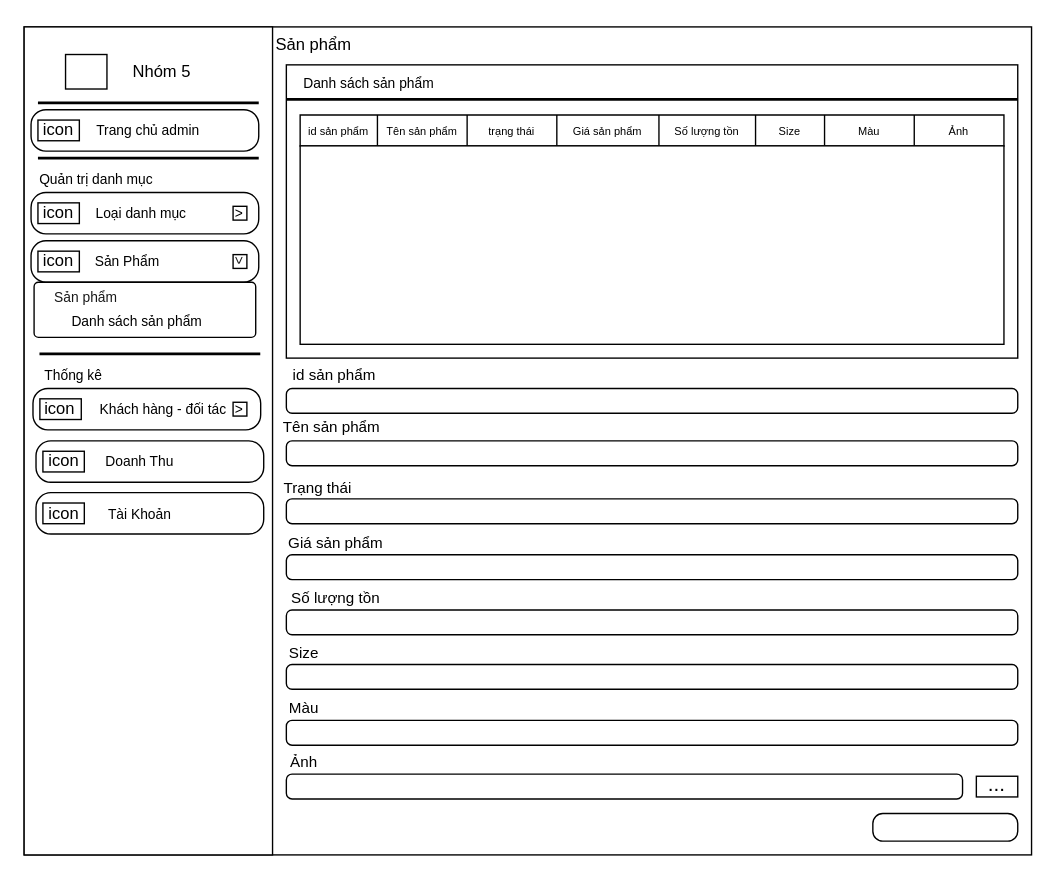
Some shapes in this 1056 by 879 pixel diagram are drawn without their labels. Each missing label, with the box of its shape:
img: (64, 53, 107, 89)
ListView: (299, 144, 1004, 344)
Thêm danh mục: (871, 812, 1018, 841)
